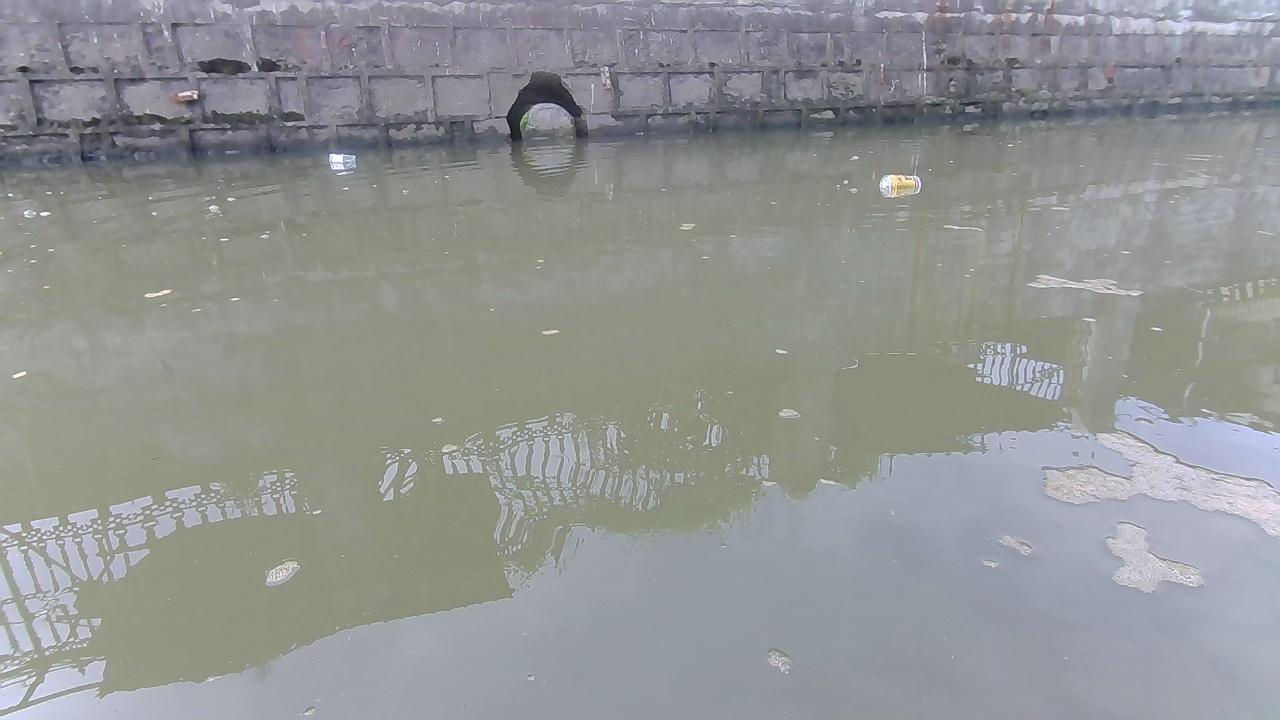bottle: (881, 170, 923, 199), (329, 152, 357, 167)
